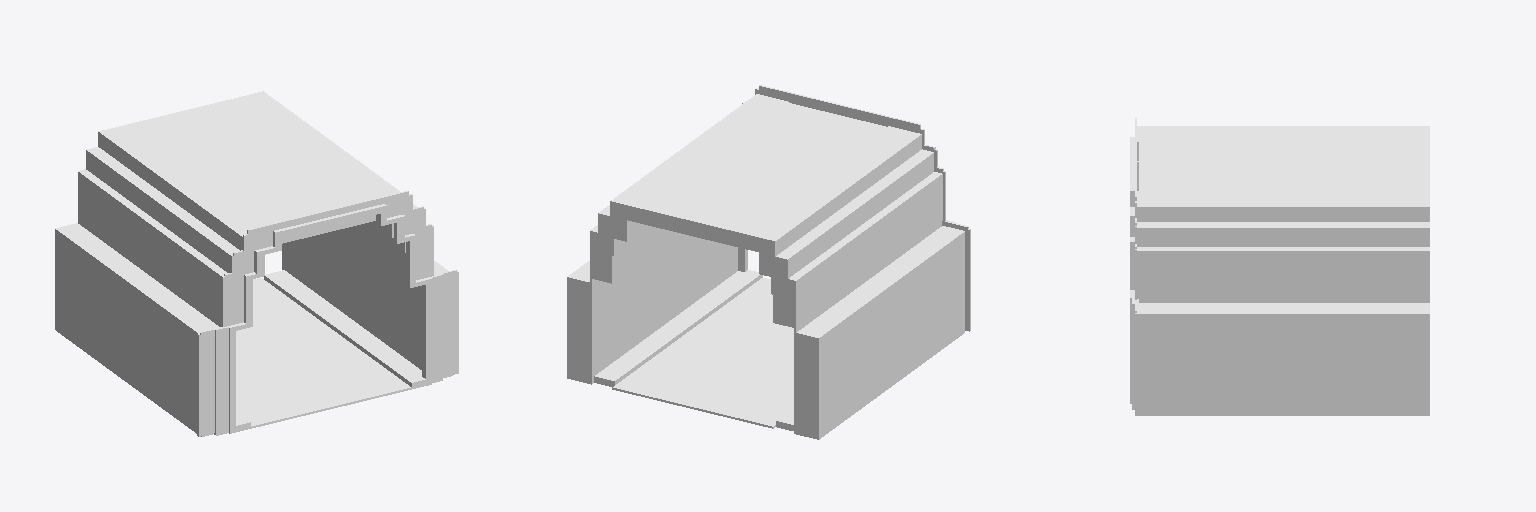
The model's file is Tunnel_6.obj.
The picture shows the model from 3 angles: view 1: azimuth 30°, elevation 25°; view 2: azimuth 150°, elevation 25°; view 3: azimuth 270°, elevation 25°; orthographic projection.
Visible parts, largest first — view 1: object 1; view 2: object 1; view 3: object 1.
Part boxes in pixels (x1,y1,x2,y2): object 1: (55,91,458,436); object 1: (567,85,970,439); object 1: (1130,118,1429,415).
Size of the model in its own units: 12.6 by 9.1 by 12.6.